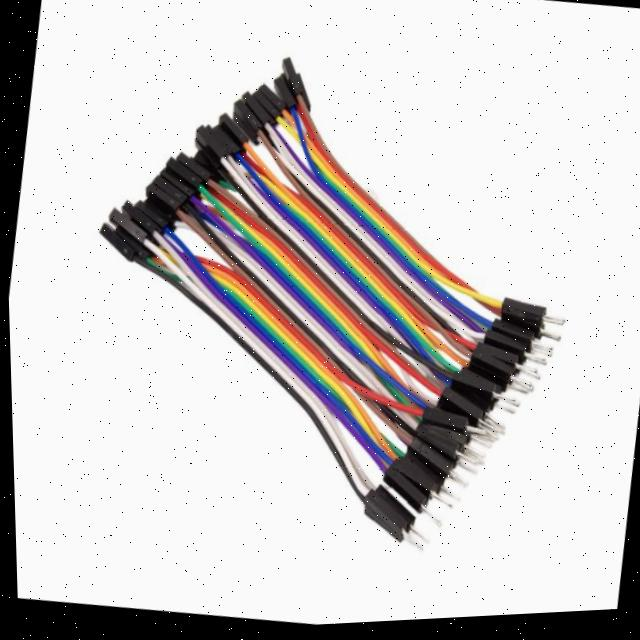Jumper Wires: (69, 28, 579, 596)
